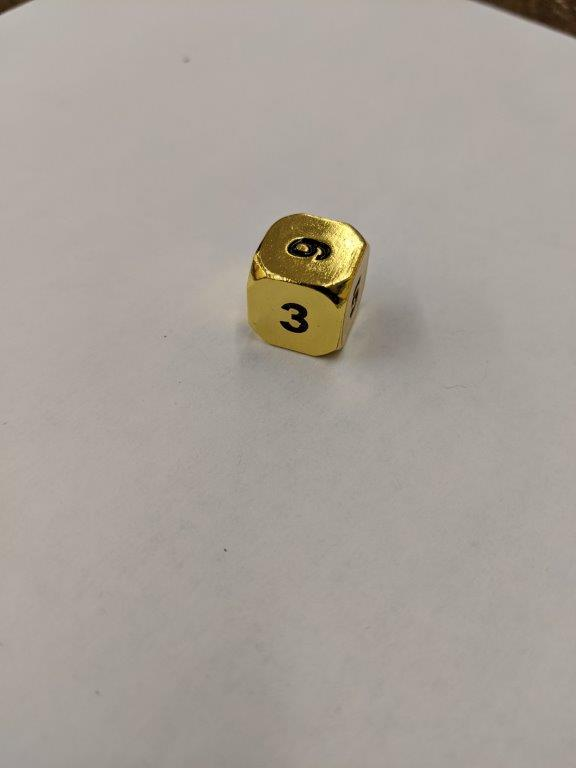d6-6: (246, 212, 374, 361)
